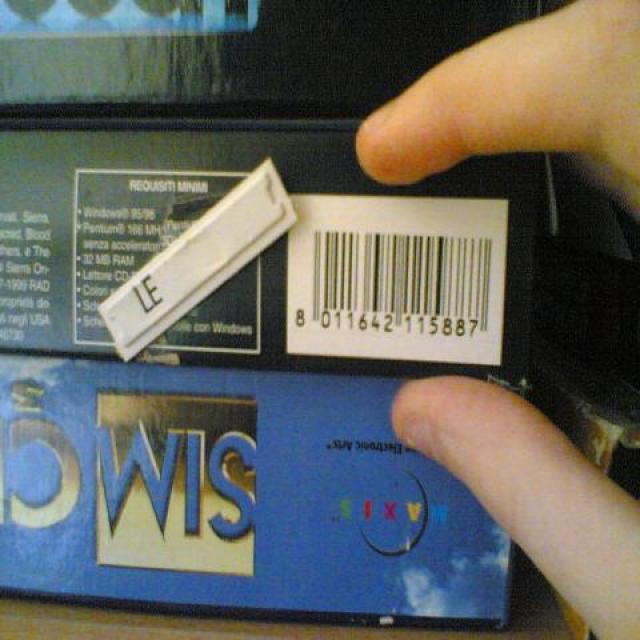Barcode: (290, 214, 501, 346)
